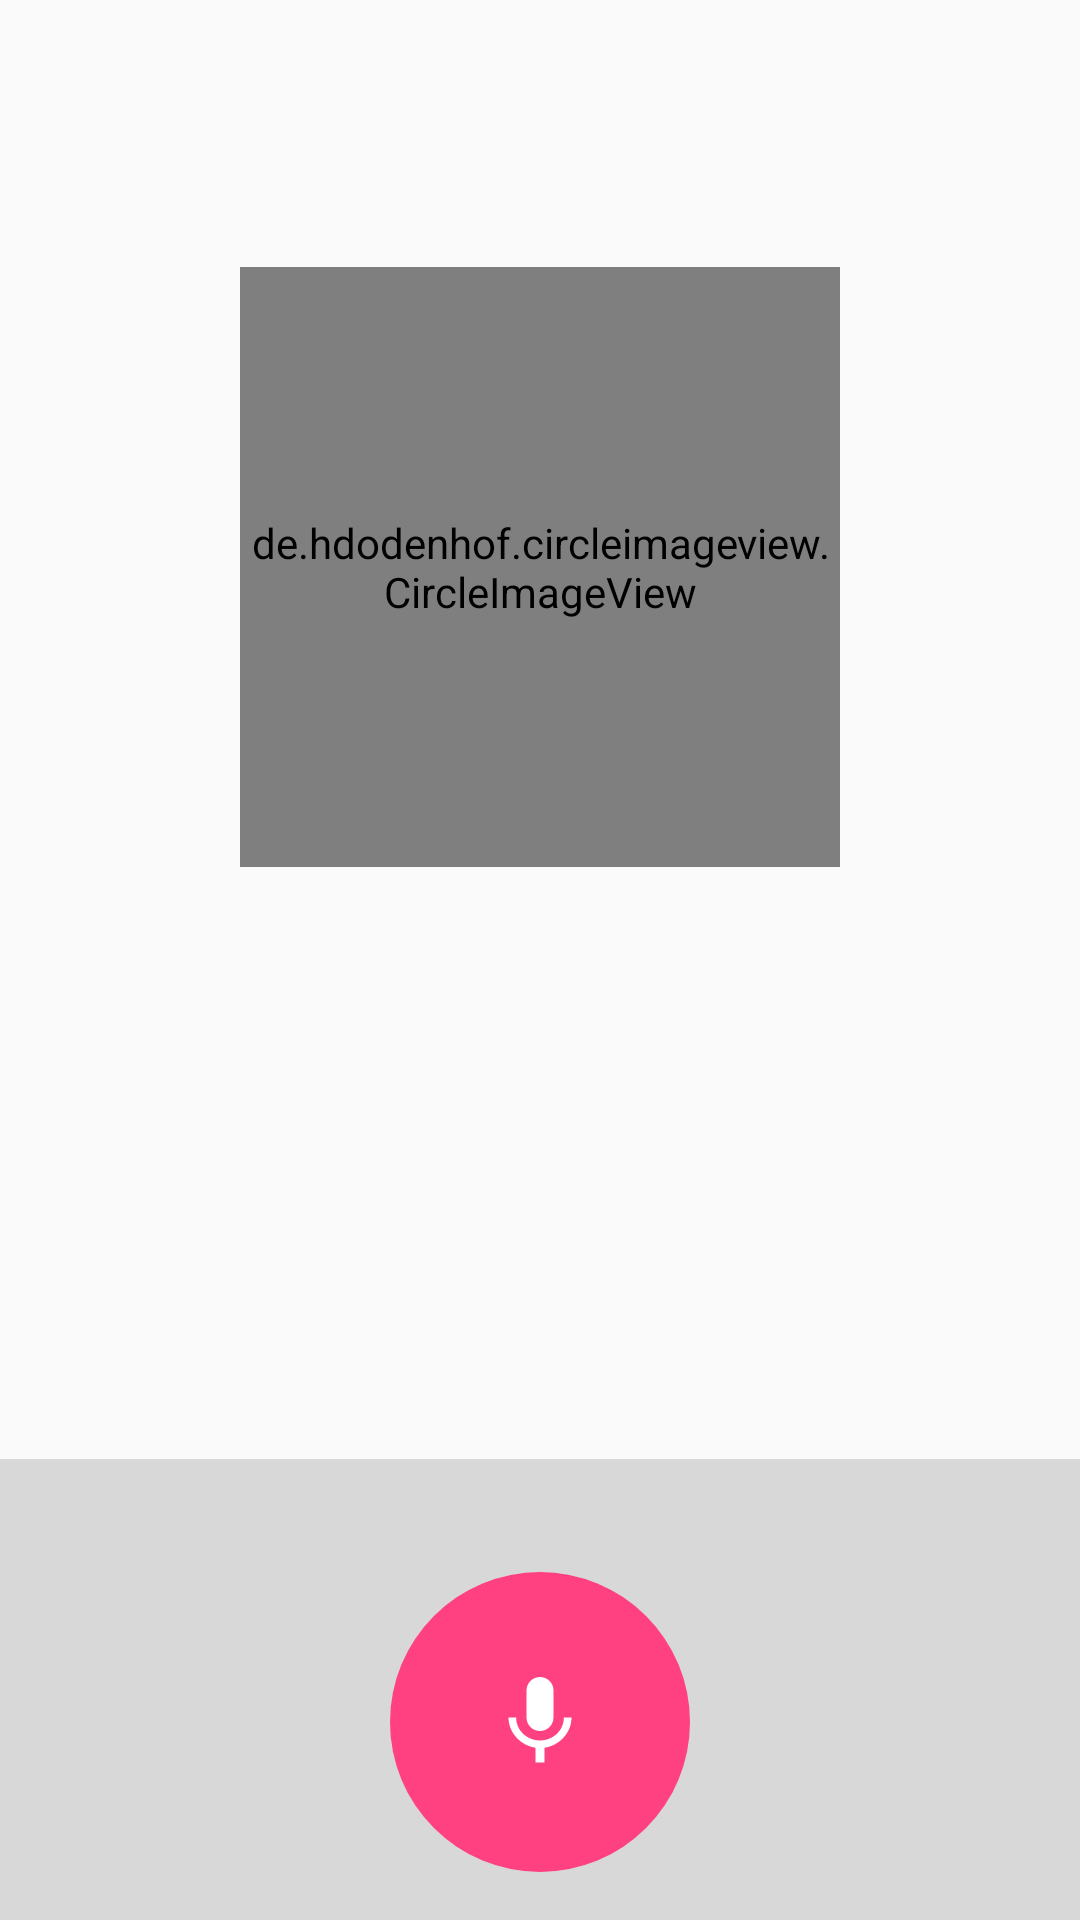

Icons on this 1080×1920 Android screen, each with the point to tap as (x=x, y=y):
mic: (x=540, y=1722)
